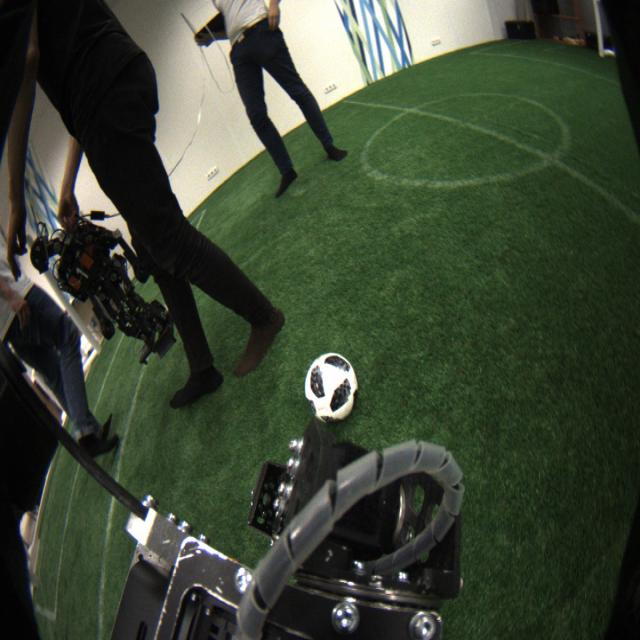ball: (304, 353, 359, 426)
goalpost: (26, 234, 102, 357), (592, 1, 606, 53)
